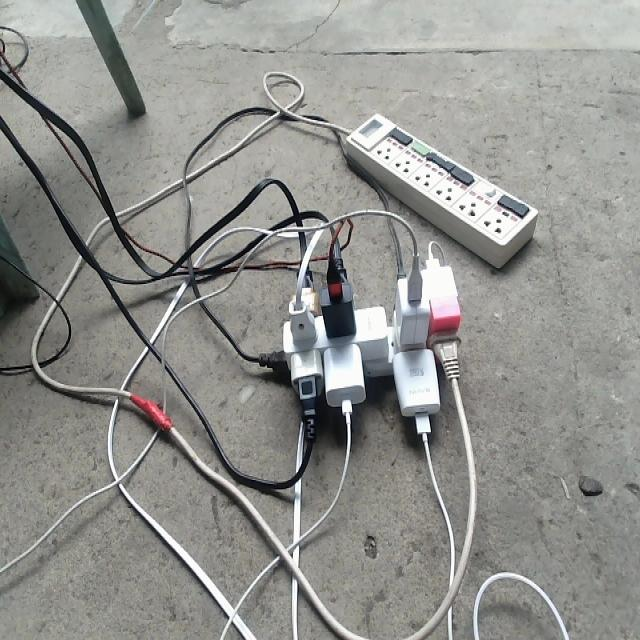-: (266, 241, 462, 443)
